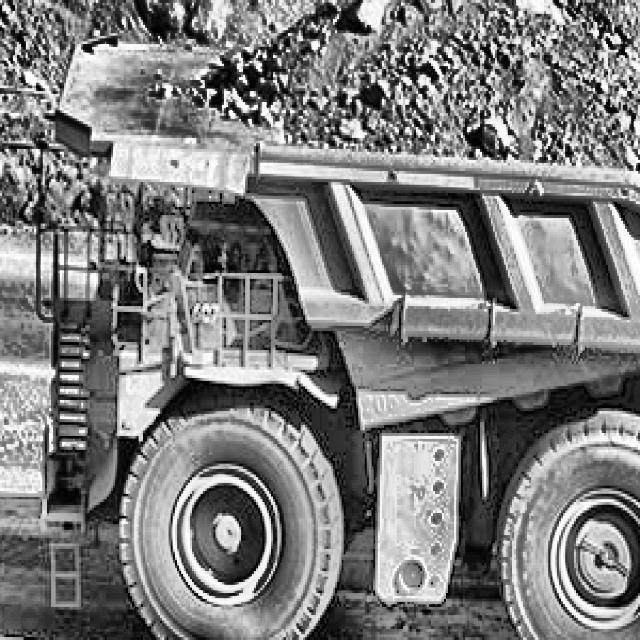dump_truck: (36, 0, 640, 640)
